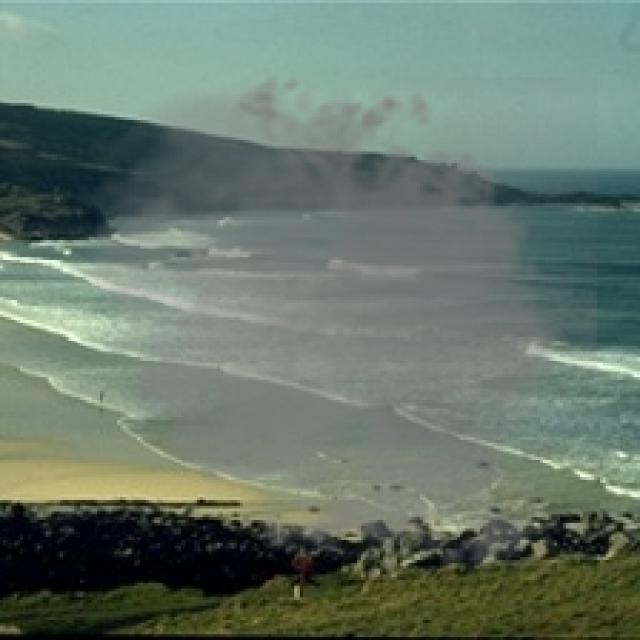Smoke: (45, 66, 598, 583)
